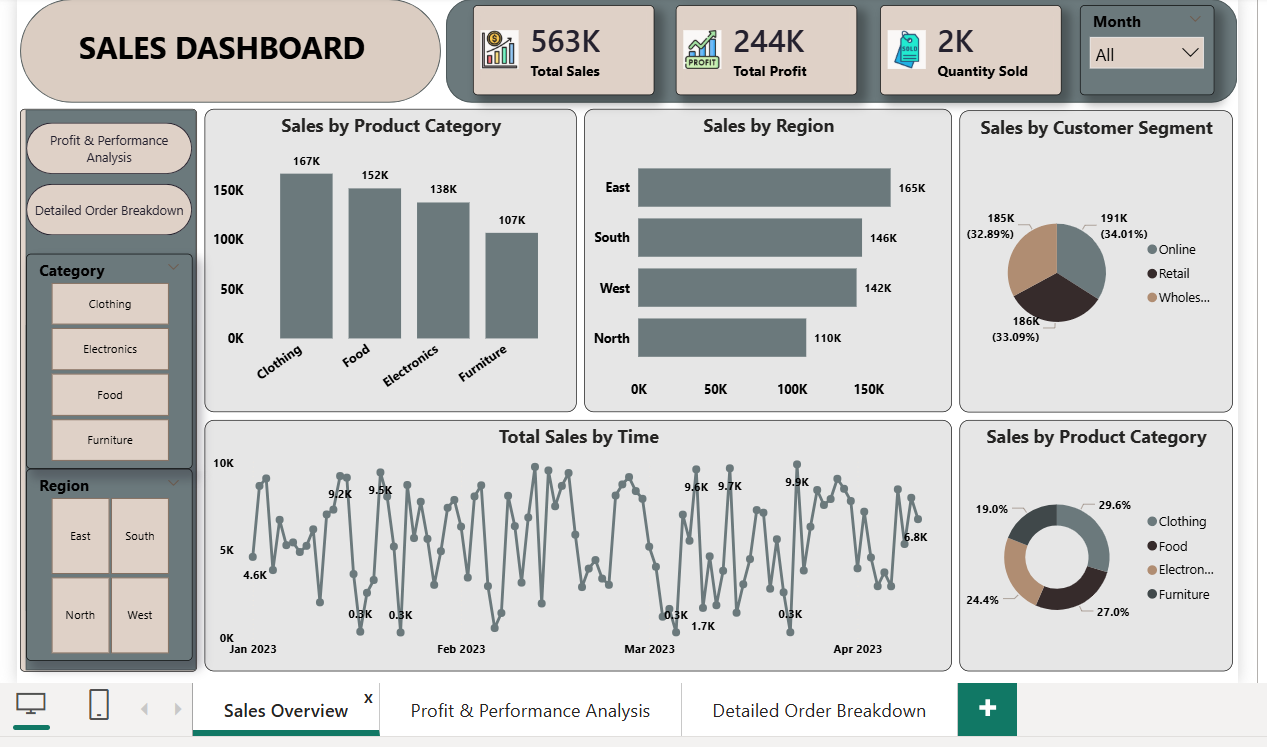

The page's visual inventory and layout, read from the dashboard file:
{"tool":"powerbi","page":{"name":"Sales Overview","canvas":[1280,720],"ordinal":0},"visuals":[{"type":"shape","box":[3.2,118.3,185.5,590.1],"z":0},{"type":"shape","box":[444.6,3.2,834.7,108.7],"z":1000},{"type":"columnChart","title":"Sales by Product Category","fields":{"Y":["Sales_Data (1).Total Sales"],"Category":["Sales_Data (1).Product Category"]},"box":[196.7,118.3,390.2,318.2],"z":2000},{"type":"barChart","title":"Sales by Region","fields":{"Y":["Sales_Data (1).Total Sales"],"Category":["Sales_Data (1).Region"]},"box":[594.9,118.3,385.4,318.2],"z":3000},{"type":"lineChart","title":"Total Sales by Time","fields":{"Category":["Sales_Data (1).Date"],"Y":["Sales_Data (1).Total Sales"]},"box":[196.7,444.6,783.6,263.9],"z":4000},{"type":"slicer","fields":{"Values":["Sales_Data (1).Date.Variation.Date Hierarchy.Month"]},"box":[1114.6,9.6,140.7,94.3],"z":5000},{"type":"slicer","fields":{"Values":["Sales_Data (1).Region"]},"box":[9.6,495.7,174.3,201.5],"z":6000},{"type":"slicer","fields":{"Values":["Sales_Data (1).Product Category"]},"box":[9.6,270.2,174.3,225.5],"z":7000},{"type":"pieChart","title":"Sales by Customer Segment","fields":{"Y":["Sales_Data (1).Total Sales"],"Category":["Sales_Data (1).Customer Segment"]},"box":[988.3,119.9,286.2,316.6],"z":8000},{"type":"donutChart","title":"Sales by Product Category","fields":{"Y":["Sales_Data (1).Total Sales"],"Category":["Sales_Data (1).Product Category"]},"box":[988.3,444.6,286.2,263.9],"z":9000},{"type":"pageNavigator","box":[9.6,132.7,174.3,119.9],"z":10000},{"type":"cardVisual","fields":{"Data":["Sales_Data (1).Total Sales"]},"box":[478.1,9.6,190.3,94.3],"z":11000},{"type":"cardVisual","fields":{"Data":["Sales_Data (1).Total Profit"]},"box":[690.8,9.6,190.3,94.3],"z":12000},{"type":"cardVisual","fields":{"Data":["Sales_Data (1).Total Quantity Sold"]},"box":[905.1,9.6,190.3,94.3],"z":13000},{"type":"shape","box":[3.2,3.2,441.4,108.7],"z":14000},{"type":"textbox","box":[44.8,11.2,415.8,92.7],"z":15000}]}

Visuals, with their boxes on the page's 1280x720 design canvas (x1, y1, x2, y2). These are canvas units, not pixel positions in the 1267x747 screenshot, which may show the page scaled, cropped or inside an application window:
shape: box=[3, 118, 189, 708]
shape: box=[445, 3, 1279, 112]
"Sales by Product Category" columnChart: box=[197, 118, 587, 436]
"Sales by Region" barChart: box=[595, 118, 980, 436]
"Total Sales by Time" lineChart: box=[197, 445, 980, 708]
slicer - Sales_Data (1).Date.Variation.Date Hierarchy.Month: box=[1115, 10, 1255, 104]
slicer - Sales_Data (1).Region: box=[10, 496, 184, 697]
slicer - Sales_Data (1).Product Category: box=[10, 270, 184, 496]
"Sales by Customer Segment" pieChart: box=[988, 120, 1274, 436]
"Sales by Product Category" donutChart: box=[988, 445, 1274, 708]
pageNavigator: box=[10, 133, 184, 253]
cardVisual - Sales_Data (1).Total Sales: box=[478, 10, 668, 104]
cardVisual - Sales_Data (1).Total Profit: box=[691, 10, 881, 104]
cardVisual - Sales_Data (1).Total Quantity Sold: box=[905, 10, 1095, 104]
shape: box=[3, 3, 445, 112]
textbox: box=[45, 11, 461, 104]
